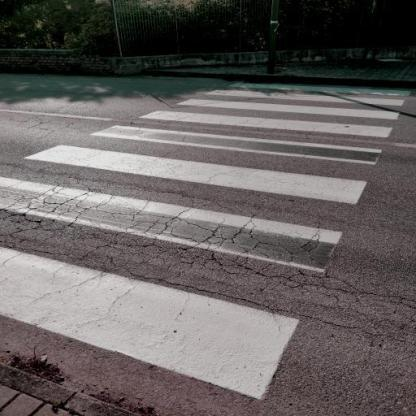crosswalk: (15, 122, 392, 207)
